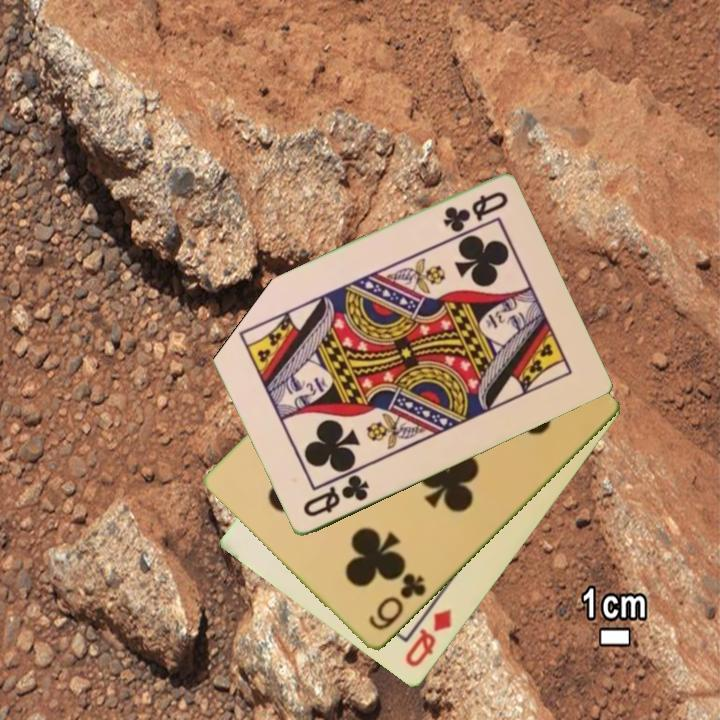6c: (365, 570, 430, 634)
Qc: (299, 471, 372, 521), (439, 188, 511, 235)
Qd: (401, 605, 455, 671)
